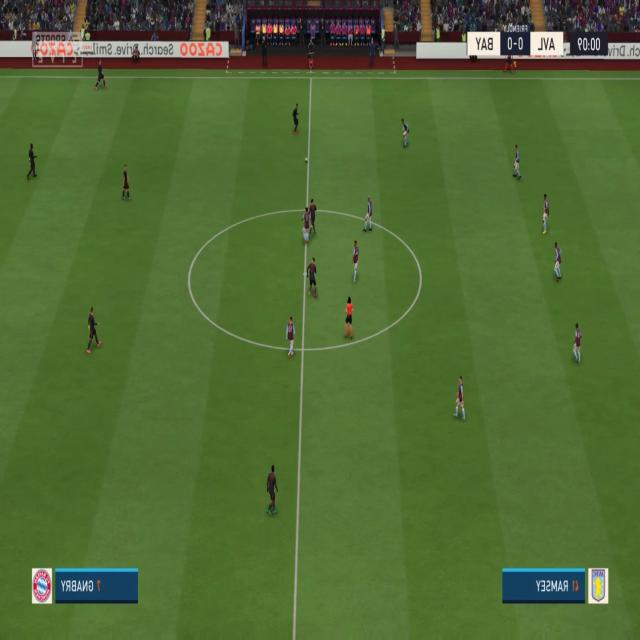Ball: (304, 156, 309, 162)
Referee: (342, 296, 352, 339)
Team-A: (85, 306, 102, 353), (267, 467, 280, 518), (307, 258, 320, 300), (24, 143, 38, 181), (120, 163, 131, 200), (92, 62, 105, 92), (308, 198, 317, 237), (291, 105, 301, 137)
Team-H: (452, 376, 465, 420), (571, 322, 583, 365), (552, 241, 564, 283), (350, 240, 361, 282), (540, 194, 550, 236), (286, 316, 296, 357), (302, 204, 311, 246), (510, 145, 520, 182), (363, 196, 373, 232), (400, 118, 410, 149)
